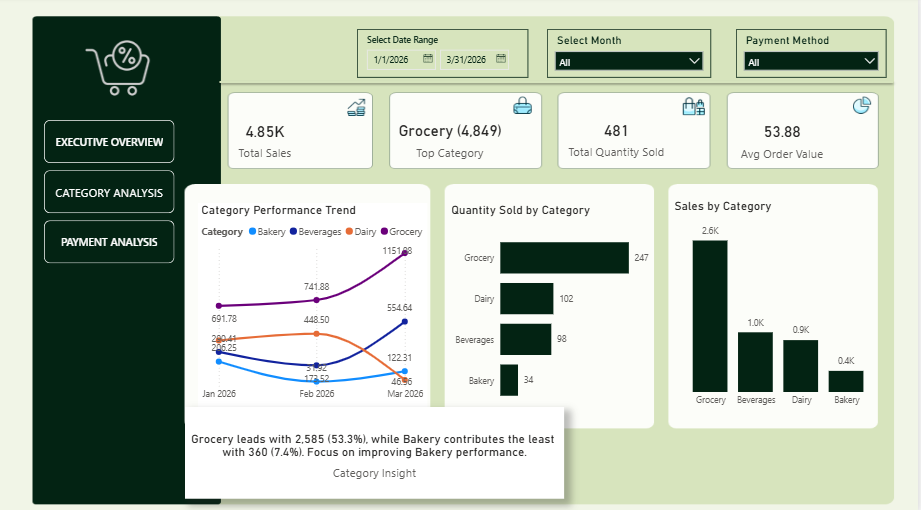

The dashboard page shown, as its layout file describes it:
{"tool":"powerbi","page":{"name":"CATEGORY ANALYSIS ","canvas":[1280,720],"ordinal":1},"visuals":[{"type":"card","fields":{"Values":["Supermarket.Total Sales"]},"box":[288.8,156.3,161.9,82.3],"z":0},{"type":"card","fields":{"Values":["Supermarket.Total Quantity Sold"]},"box":[774.4,142.3,171.6,107.4],"z":1000},{"type":"card","fields":{"Values":["Supermarket.Avg Order Value"]},"box":[1013,153.5,156.3,89.3],"z":2000},{"type":"columnChart","title":"Total Sales by Category","fields":{"Category":["Supermarket.Category"],"Y":["Supermarket.Total Sales"]},"box":[936.1,281.8,300.9,299.3],"z":3000},{"type":"slicer","fields":{"Values":["Date Table.Date"]},"box":[498.3,44.6,238.8,68.5],"z":4000},{"type":"slicer","fields":{"Values":["Date Table.Month Year"]},"box":[762.6,44.6,229.3,68.5],"z":5000},{"type":"pageNavigator","box":[61.4,161.9,182.8,200.9],"z":6000},{"type":"card","fields":{"Values":["Supermarket.Top Category Display"]},"box":[535.8,131.2,184.2,131.2],"z":7000},{"type":"lineChart","title":"Category Performance Trend","fields":{"Category":["Date Table.Month Year"],"Y":["Supermarket.Total Sales"],"Series":["Supermarket.Category"]},"box":[276.3,287.4,319.5,249.8],"z":8000},{"type":"barChart","title":"Total Quantity Sold by Category","fields":{"Category":["Supermarket.Category"],"Y":["Supermarket.Total Quantity Sold"]},"box":[625.1,287.4,286,298.6],"z":9000},{"type":"card","fields":{"Values":["Supermarket.Category Insight"]},"box":[258.1,569.3,528.8,128.4],"z":10000},{"type":"slicer","fields":{"Values":["Supermarket.PaymentMethod"]},"box":[1026.9,44.6,210.1,68.5],"z":11000}]}

Visuals, with their boxes in screenshot pixels (x1, y1, x2, y2), scaled from the page's 1280x720 canvas onto the 921x510 screenshot:
card - Supermarket.Total Sales: bbox(208, 111, 324, 169)
card - Supermarket.Total Quantity Sold: bbox(557, 101, 681, 177)
card - Supermarket.Avg Order Value: bbox(729, 109, 841, 172)
"Total Sales by Category" columnChart: bbox(674, 200, 890, 412)
slicer - Date Table.Date: bbox(359, 32, 530, 80)
slicer - Date Table.Month Year: bbox(549, 32, 714, 80)
pageNavigator: bbox(44, 115, 176, 257)
card - Supermarket.Top Category Display: bbox(386, 93, 518, 186)
"Category Performance Trend" lineChart: bbox(199, 204, 429, 381)
"Total Quantity Sold by Category" barChart: bbox(450, 204, 656, 415)
card - Supermarket.Category Insight: bbox(186, 403, 566, 494)
slicer - Supermarket.PaymentMethod: bbox(739, 32, 890, 80)
